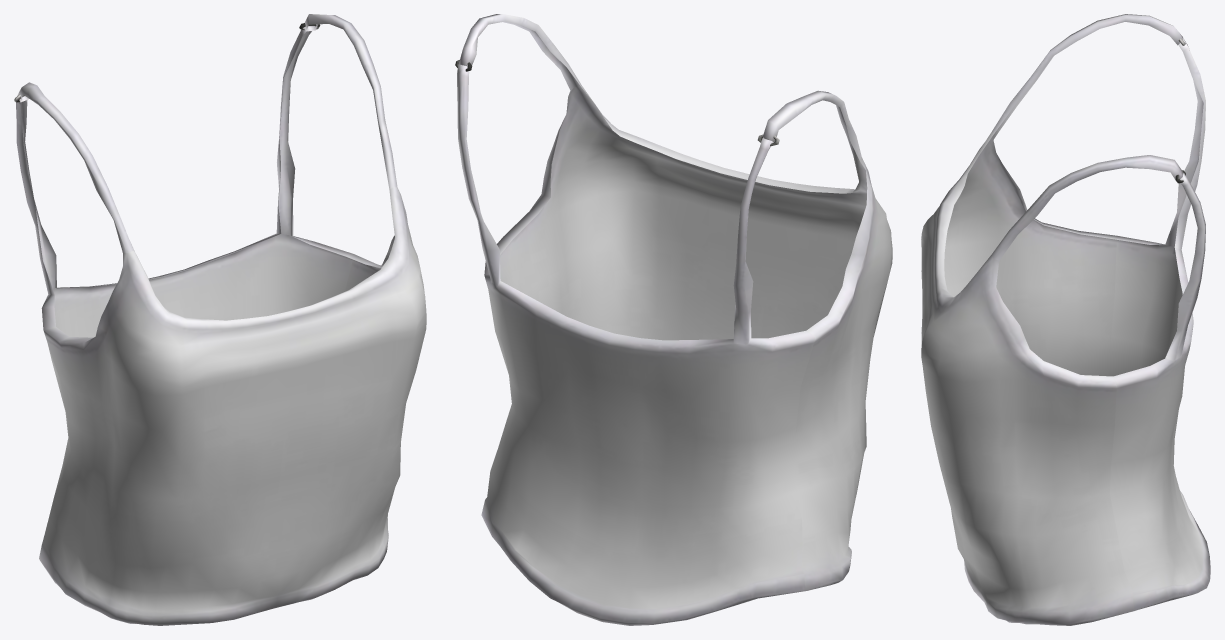
The model's file is punkduck-spaghetti-strap-tank-top.glb.
3 renders of one model, left to right at view 1: azimuth 30°, elevation 25°; view 2: azimuth 150°, elevation 25°; view 3: azimuth 270°, elevation 25°, orthographic. The views are drawn at different scales.
Parts seen in each view (by area): view 1: Human.punkduck_spaghetti_strap_tank_top; view 2: Human.punkduck_spaghetti_strap_tank_top; view 3: Human.punkduck_spaghetti_strap_tank_top.
Boxes of the visible parts, <box> form: Human.punkduck_spaghetti_strap_tank_top: <box>14,14,426,625</box>; Human.punkduck_spaghetti_strap_tank_top: <box>455,14,892,625</box>; Human.punkduck_spaghetti_strap_tank_top: <box>921,14,1210,625</box>.
Bounding box in the file's own units: 0.2834 × 0.4287 × 0.2301.
1 material, 1 textured.
